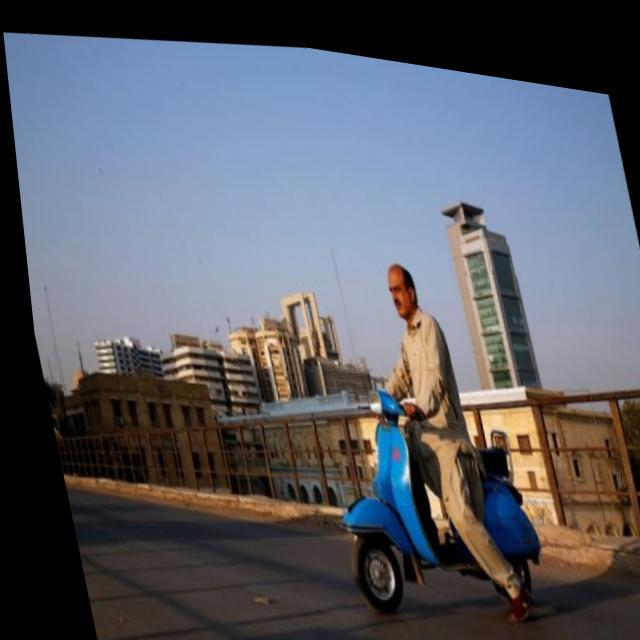Nonhelmet: (382, 262, 422, 326)
